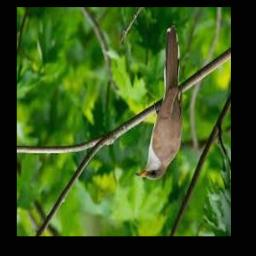Cuckoo: (135, 27, 183, 180)
